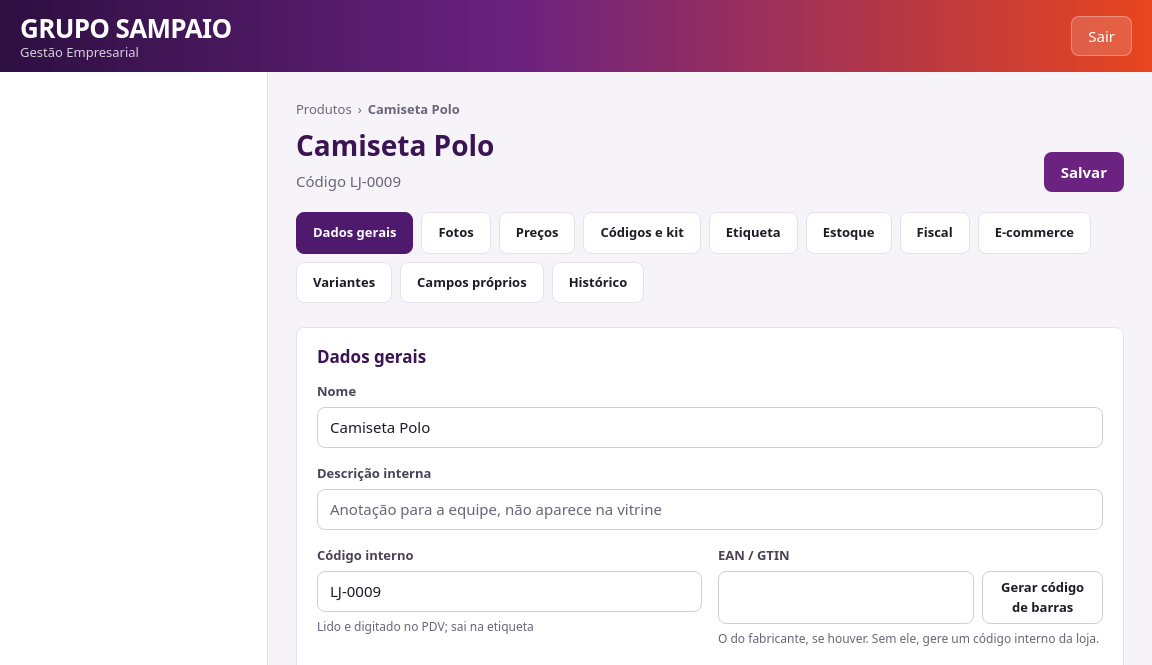
Test case: o grupo tributário existe na tela (GAP-V01) › com UM grupo só, a dica diz que o vazio já resolve
Expected: the field showing "Camiseta Polo" is shown, x1=317 y1=407 x2=1103 y2=448
Click the tab "Fiscal": (935, 233) x1=900 y1=212 x2=970 y2=254
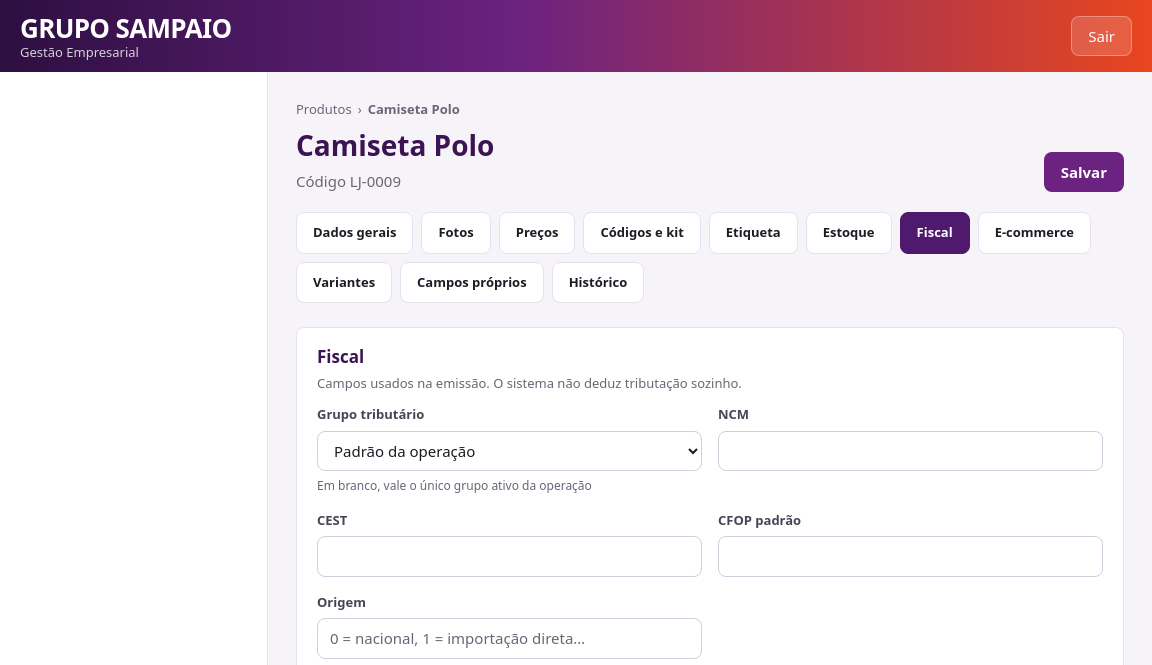
Expected: the text "Em branco, vale o único grupo ativo da operação" is shown, x1=317 y1=476 x2=592 y2=494
